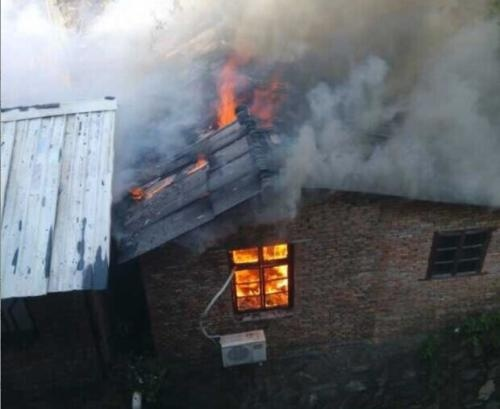fire: (213, 58, 278, 127), (230, 240, 293, 306)
